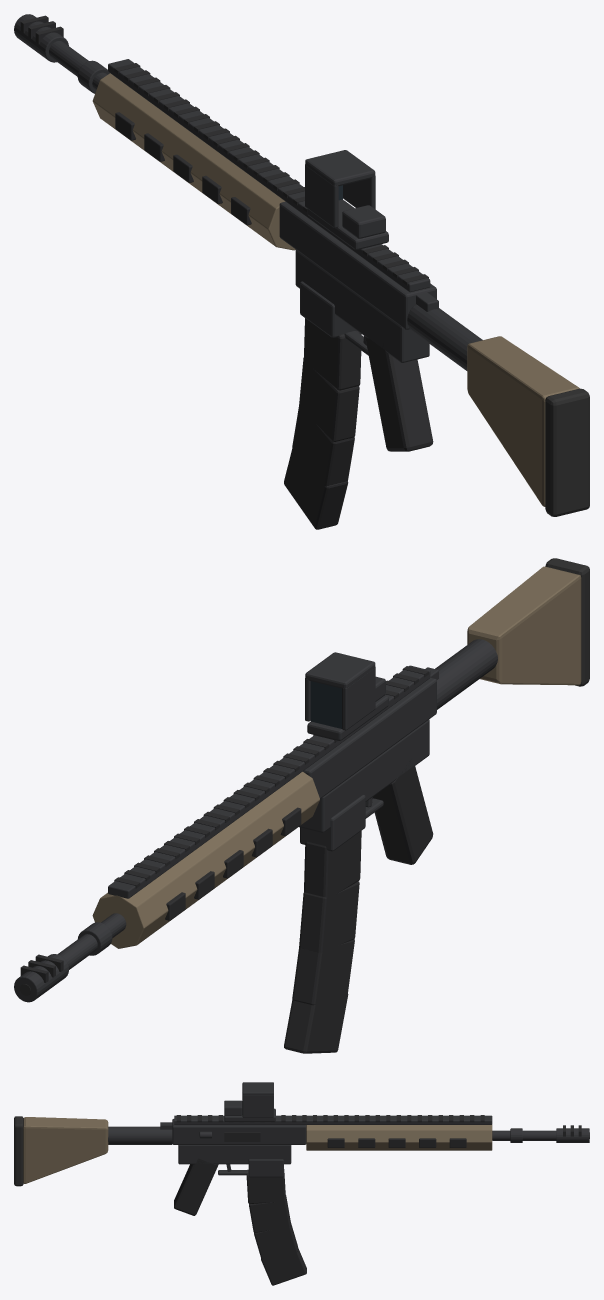
3 views of the same model, one above another, from view 1: azimuth 30°, elevation 25°; view 2: azimuth 150°, elevation 25°; view 3: azimuth 270°, elevation 25° (orthographic). The views are drawn at different scales.
Parts seen in each view (by area): view 1: upper; view 2: upper; view 3: upper.
Part boxes in pixels (x1,y1,x2,y2): upper: (14, 14, 589, 529); upper: (14, 558, 589, 1053); upper: (14, 1082, 589, 1285).
Bounding box in the file's own units: 0.055 × 0.3554 × 0.9455.
